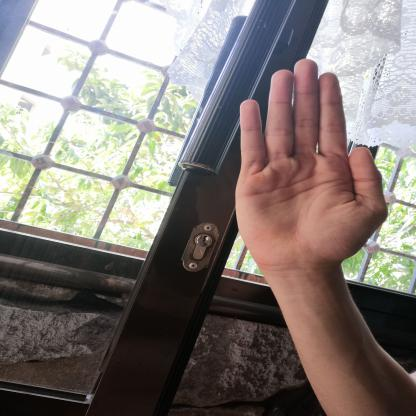SEEN: (215, 47, 397, 284)
